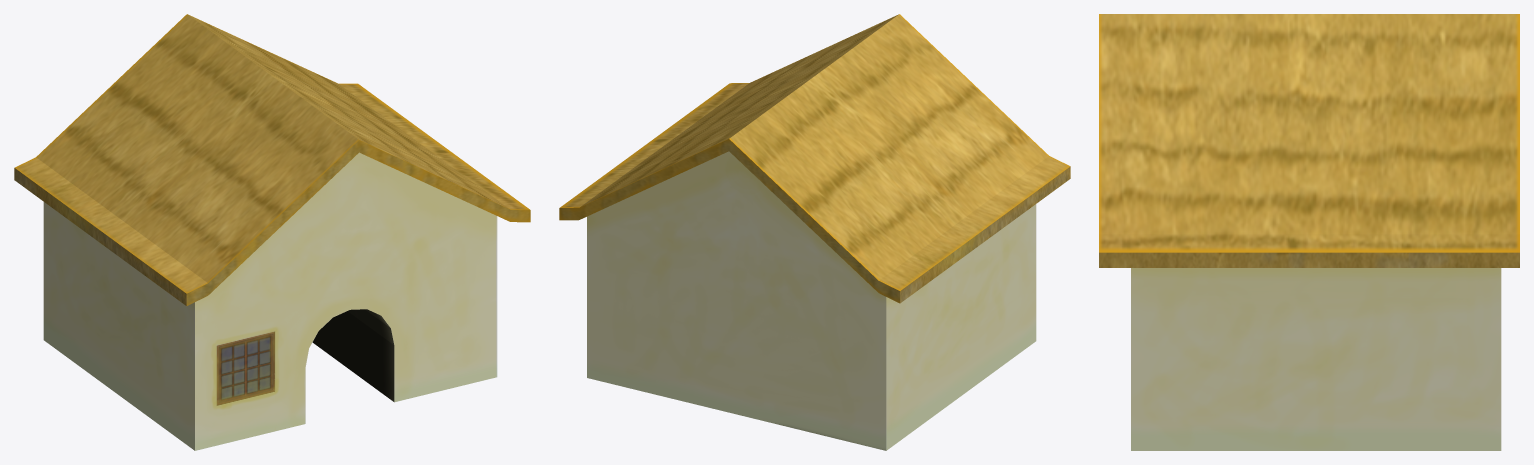
The model's file is house.fbx.
The picture shows the model from 3 angles, left to right: view 1: azimuth 30°, elevation 25°; view 2: azimuth 150°, elevation 25°; view 3: azimuth 270°, elevation 25°; orthographic projection. The views are drawn at different scales.
Parts seen in each view (by area): view 1: Box001; view 2: Box001; view 3: Box001.
Boxes of the visible parts, x1,y1,x2,y2 form: Box001: [14, 14, 530, 450]; Box001: [559, 14, 1070, 450]; Box001: [1099, 14, 1519, 450].
Size of the model in its own units: 264 by 208 by 229.
1 material, 1 textured.
